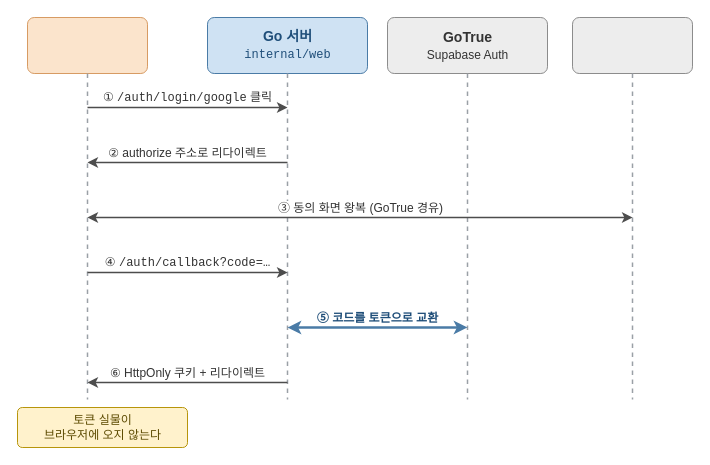
Some shapes in this 710 by 465 pixel diagram are drawn without their labels. The centre of each missing label's shape, as x and y in pixels:
Google/GitHub: the point at 632,45
브라우저: the point at 87,45
